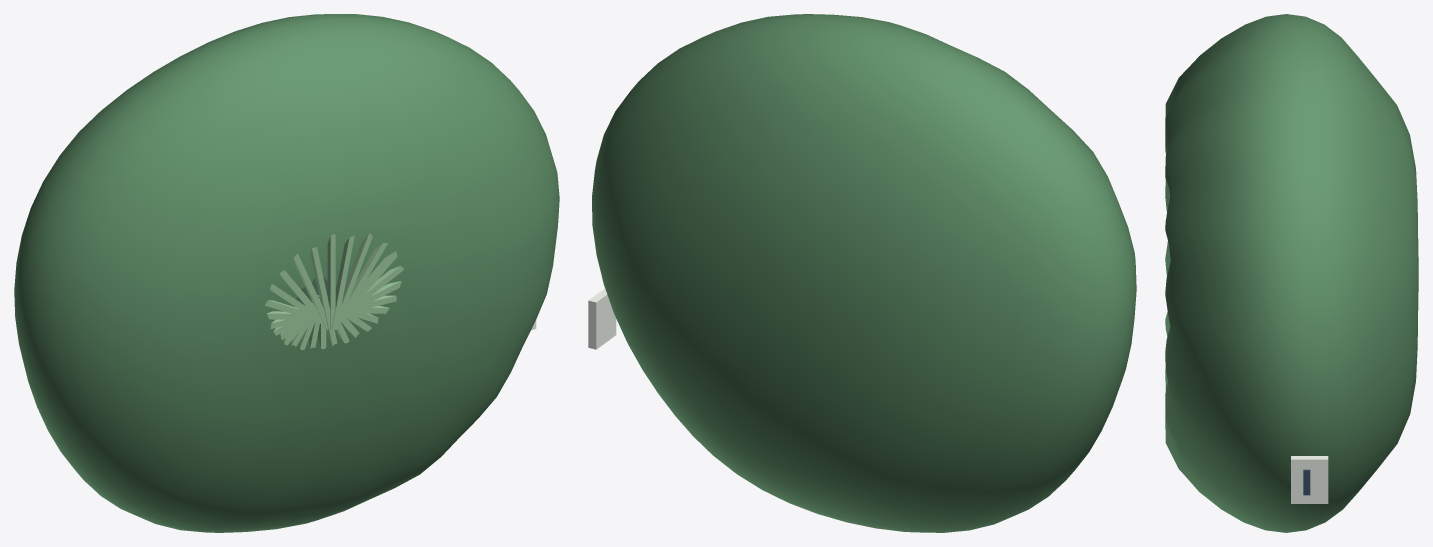
The model's file is beanbag_chair.glb.
The picture shows the model from 3 angles, left to right: view 1: azimuth 30°, elevation 25°; view 2: azimuth 150°, elevation 25°; view 3: azimuth 270°, elevation 25°; orthographic projection. The views are drawn at different scales.
Visible parts, largest first — view 1: beanbag_chair; view 2: beanbag_chair; view 3: beanbag_chair.
Part boxes in pixels (<box>): beanbag_chair: <box>14,14,559,532</box>; beanbag_chair: <box>588,14,1136,532</box>; beanbag_chair: <box>1165,14,1418,532</box>.
Bounding box in the file's own units: 1.1 × 0.9799 × 0.4927.
